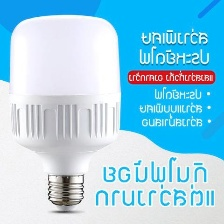light_bulb: (3, 11, 124, 216)
